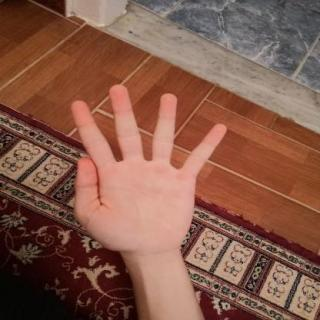SHEEN: (49, 78, 236, 262)
